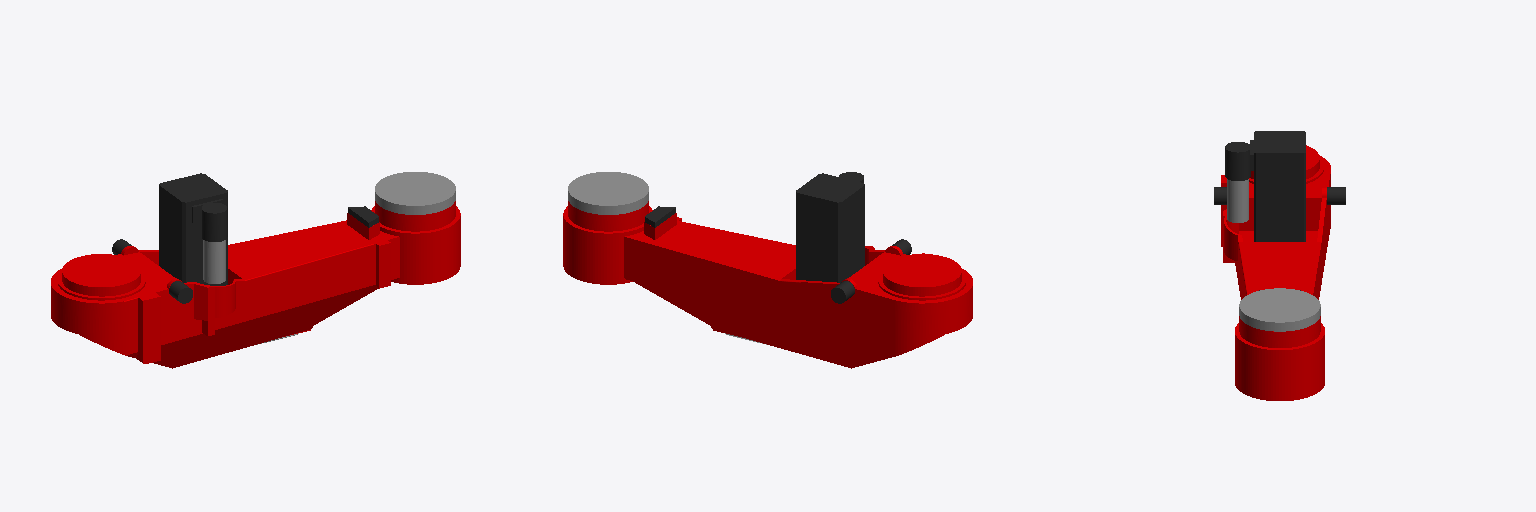
The model's file is A2zuA3.obj.
3 views of the same model, side by side, from view 1: azimuth 30°, elevation 25°; view 2: azimuth 150°, elevation 25°; view 3: azimuth 270°, elevation 25° (orthographic).
Parts seen in each view (by area): view 1: Solid2, Solid8, Solid5; view 2: Solid2, Solid8, Solid5; view 3: Solid2, Solid8, Solid5.
Boxes of the visible parts, <box> form: Solid2: <box>51,201,460,368</box>; Solid8: <box>159,173,227,285</box>; Solid5: <box>375,172,455,214</box>; Solid2: <box>563,201,972,368</box>; Solid8: <box>796,172,864,282</box>; Solid5: <box>568,172,648,214</box>; Solid2: <box>1221,145,1330,400</box>; Solid8: <box>1225,131,1305,241</box>; Solid5: <box>1239,288,1320,331</box>.
Bounding box in the file's own units: 0.779 × 0.312 × 0.224.